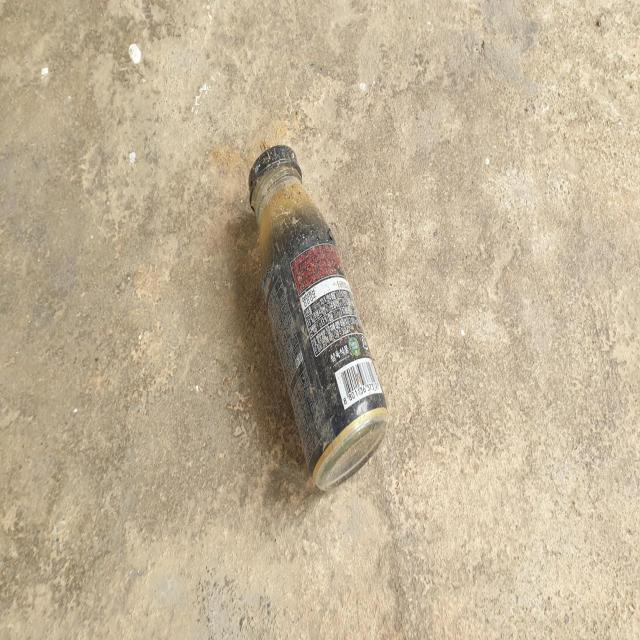glass: (248, 144, 389, 490)
